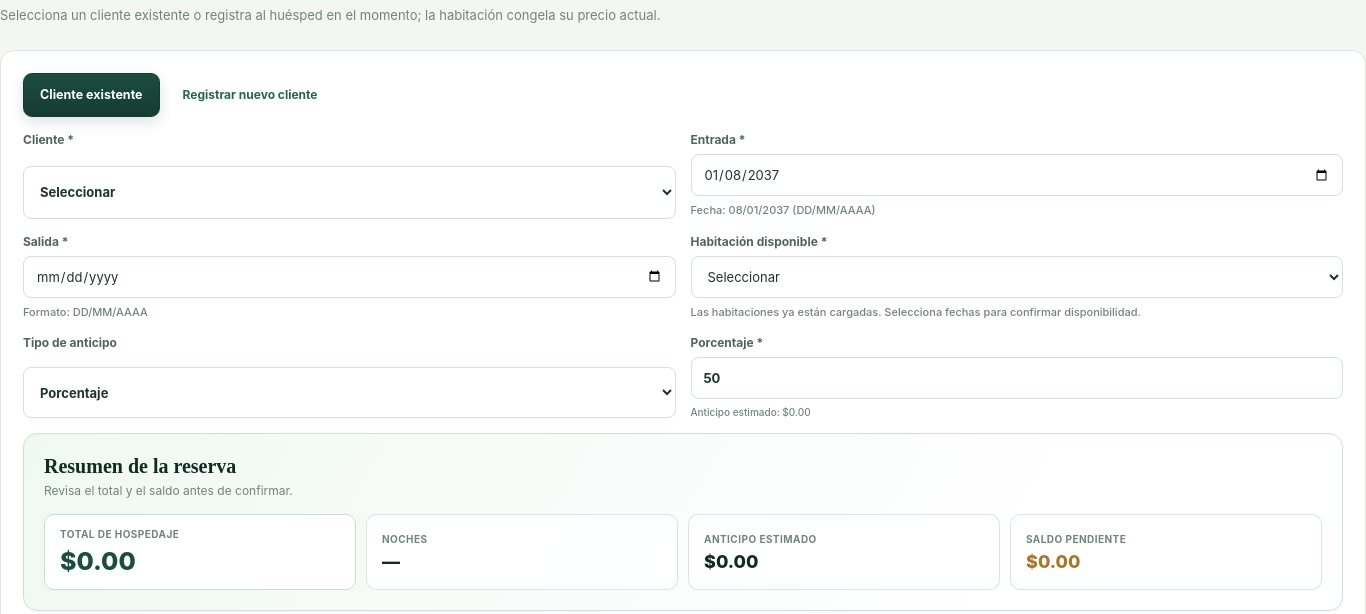
Test: ReservationForm › disables occupied rooms for the selected date range and shows when they free up
Click the button "Registrar nuevo cliente" at (250, 96), box [168,74,332,118]
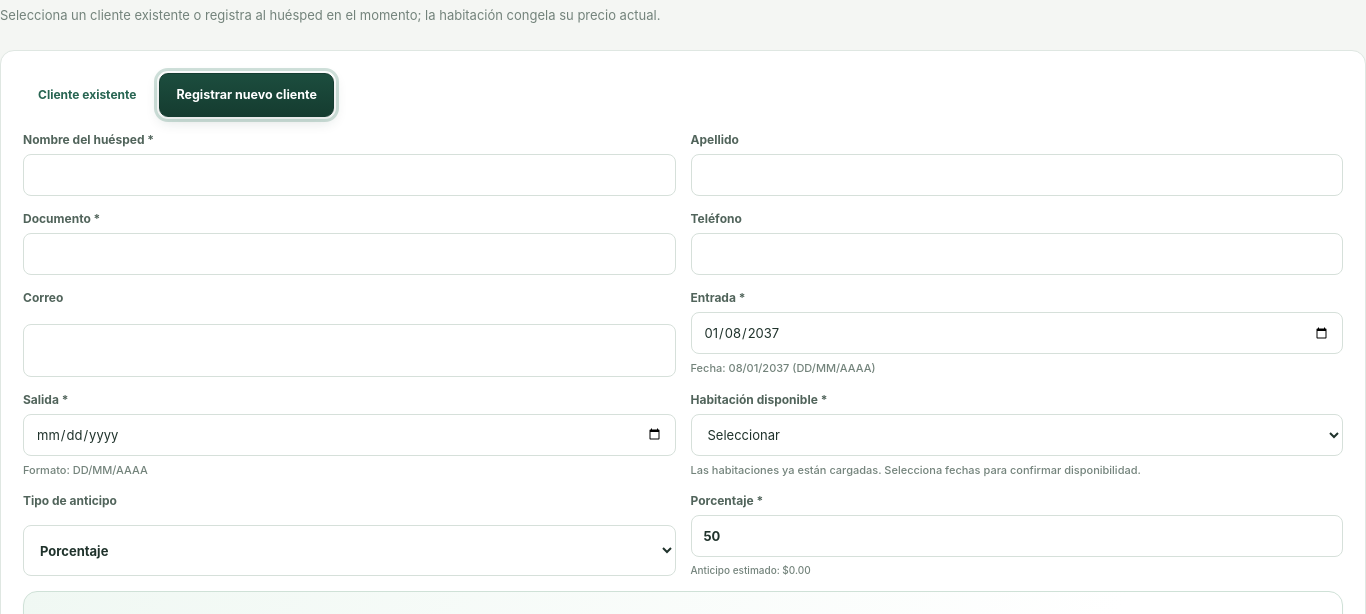
Type "Huésped de prueba" into the field labelled "Nombre del huésped *" at (349, 176), box [23,154,676,196]
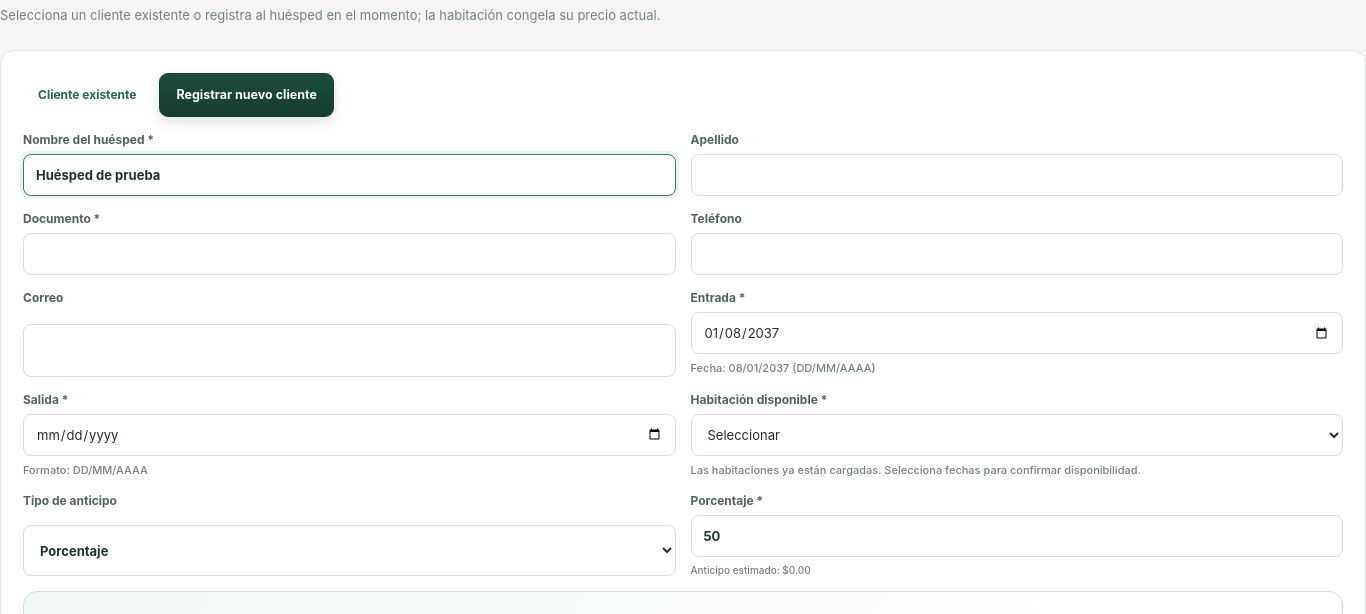
Type "DOC-RESERVATION-409" into the field labelled "Documento *" at (349, 254), box [23,234,676,276]
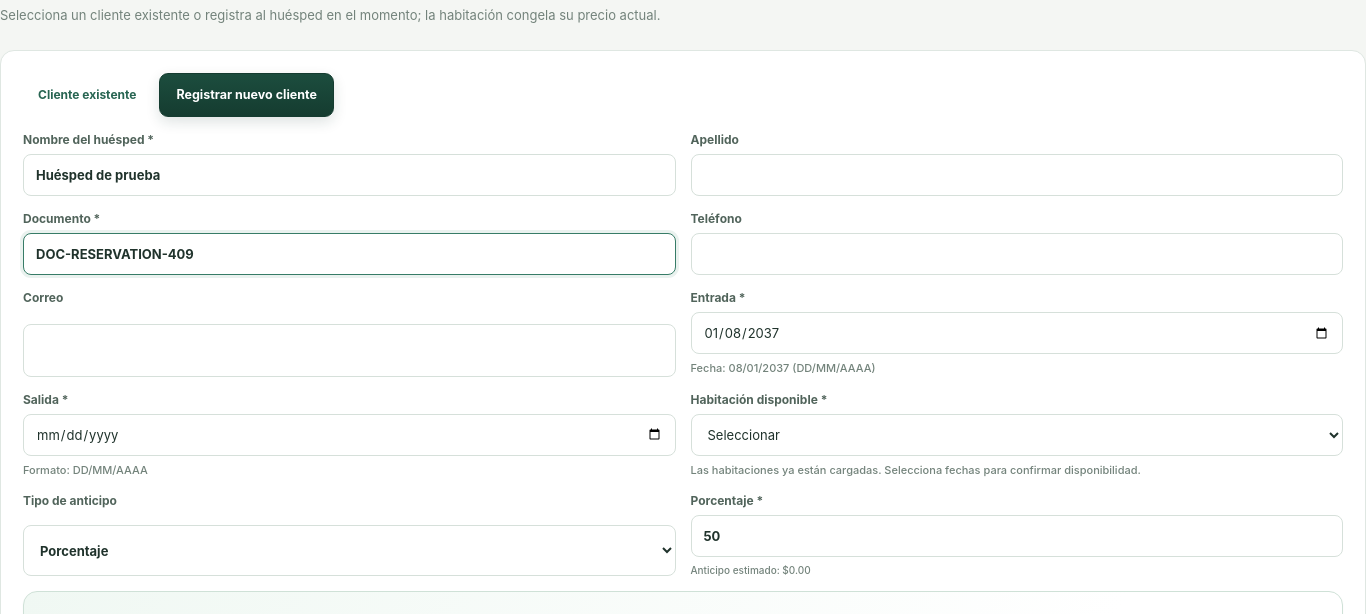
Type "2037-01-10" into the date field labelled "Entrada *" at (1017, 334), box [690,312,1343,354]
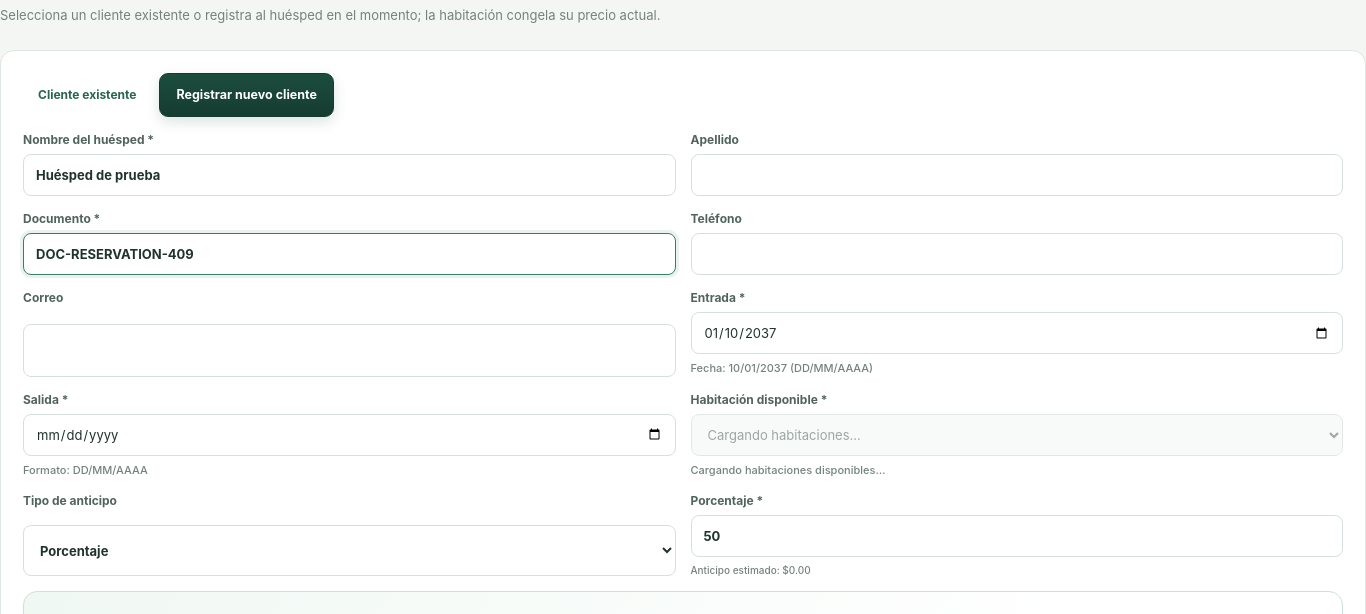
Type "2037-01-12" into the date field labelled "Salida *" at (349, 435), box [23,414,676,456]
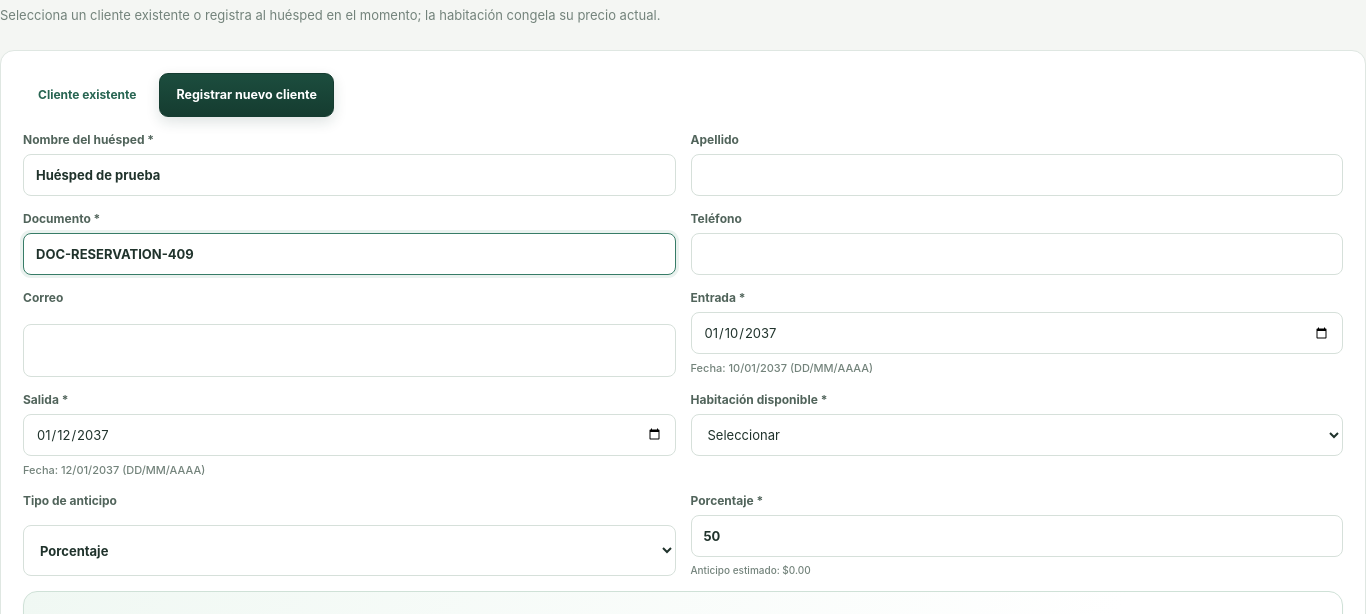
Expected: the dropdown labelled "Habitación disponible *" is enabled
Select "Habitación de prueba · $50.00/noche · Disponible" in the dropdown labelled "Habitación disponible *" at (1017, 435), box [690,414,1343,456]
(page scrolled)
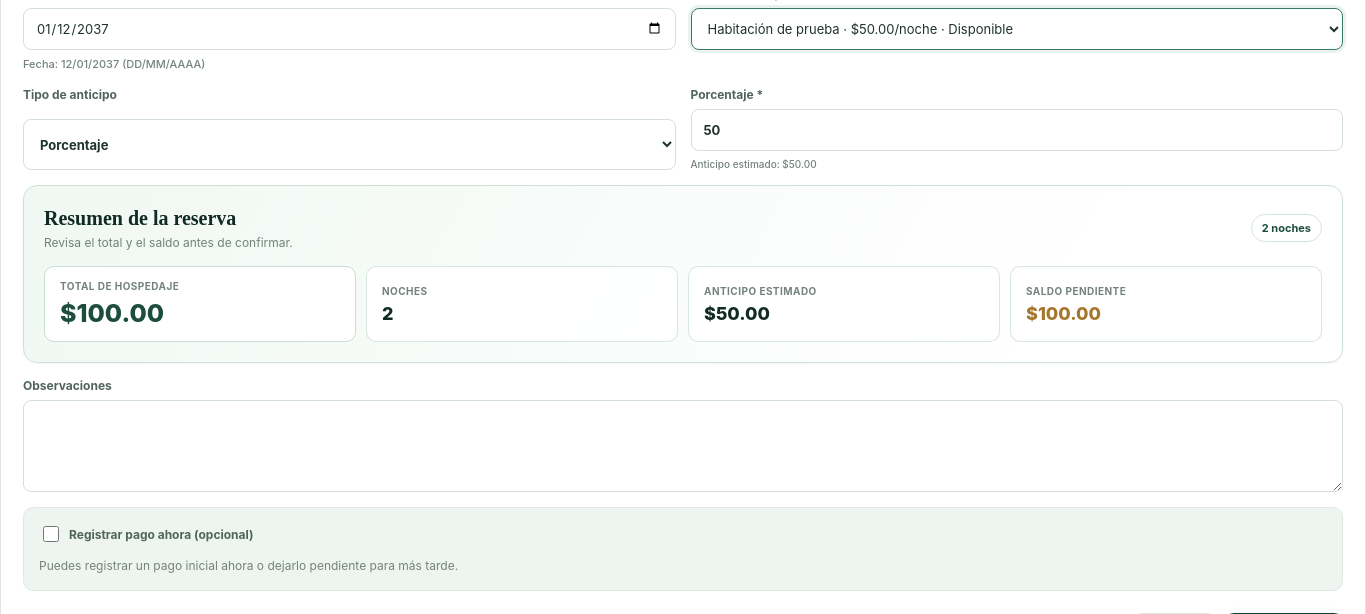
Expected: the text named "Total de hospedaje calculado (USD)" reads "$100.00", [60,298,164,328]
